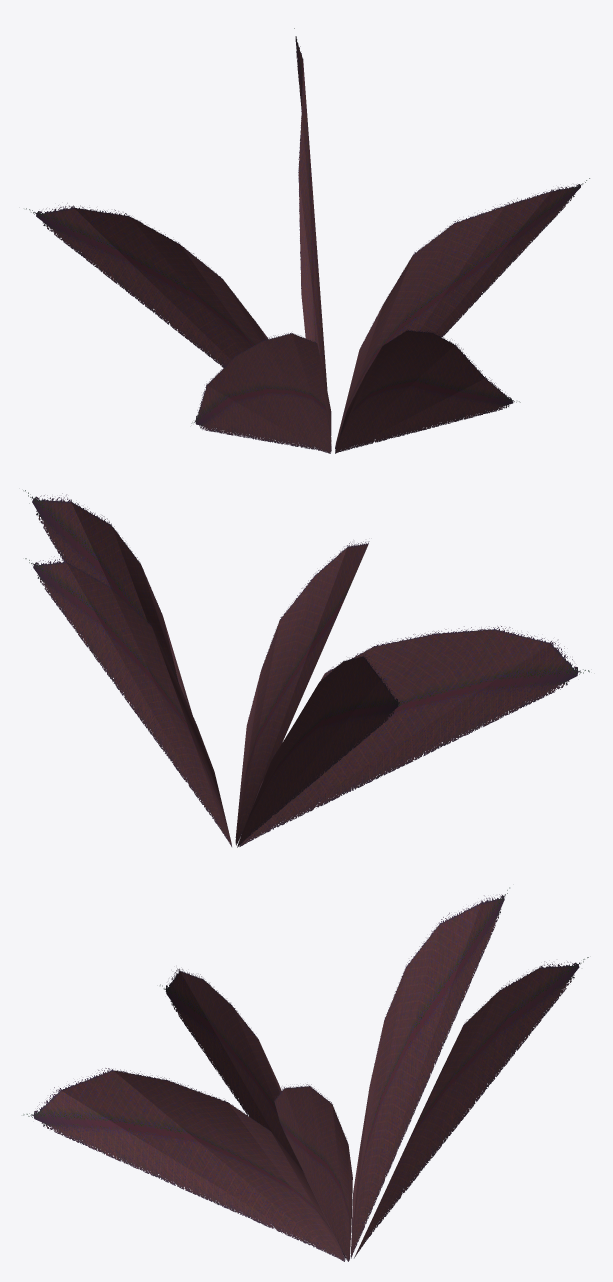
File: rop.obj
3 renders of one model, top to bottom at view 1: azimuth 30°, elevation 25°; view 2: azimuth 150°, elevation 25°; view 3: azimuth 270°, elevation 25°, orthographic. The views are drawn at different scales.
Bounding box in the file's own units: 12.75 × 8.71 × 13.03.
